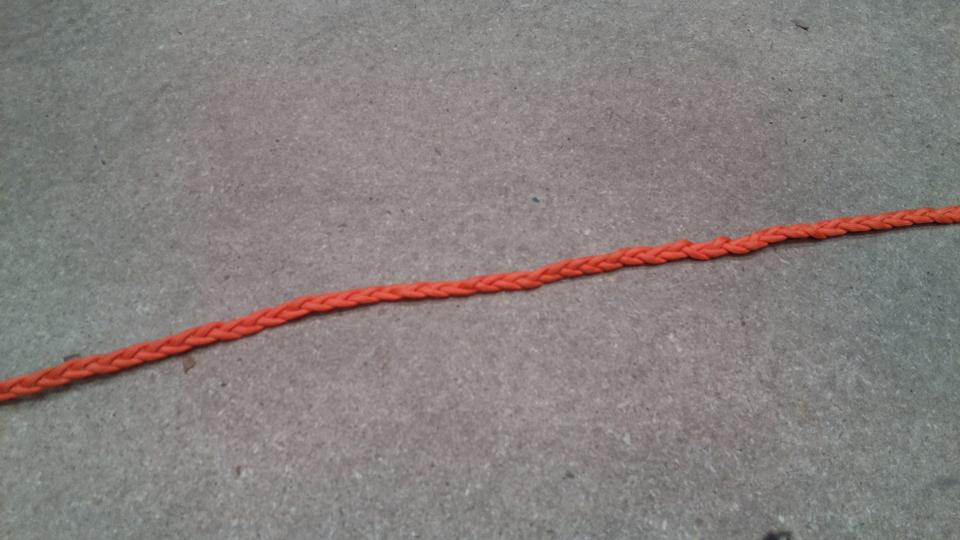rope: (1, 203, 960, 402)
